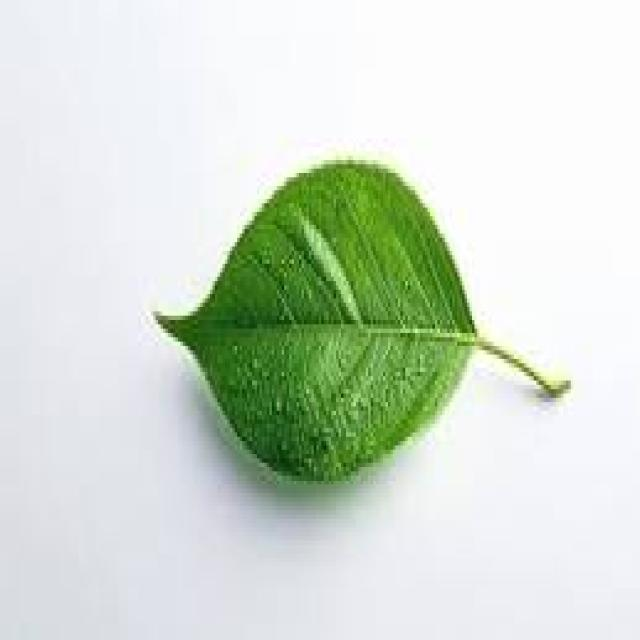healthy: (158, 160, 566, 480)
